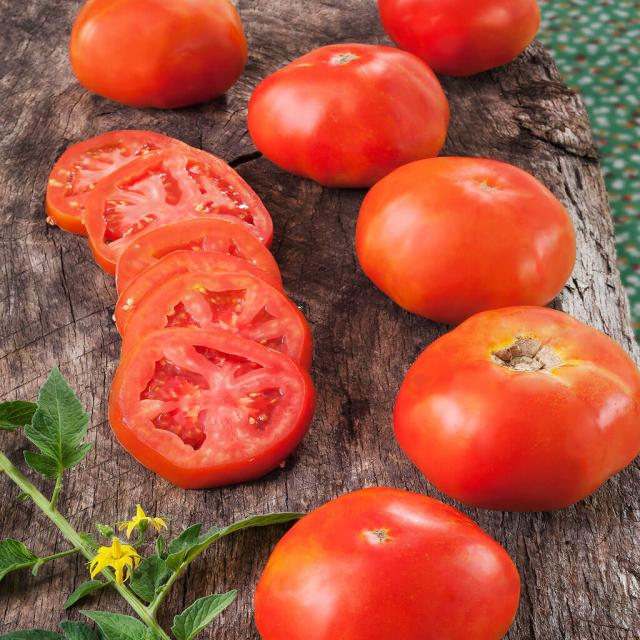tomato: (401, 308, 640, 505), (336, 150, 580, 306), (233, 42, 452, 177)
